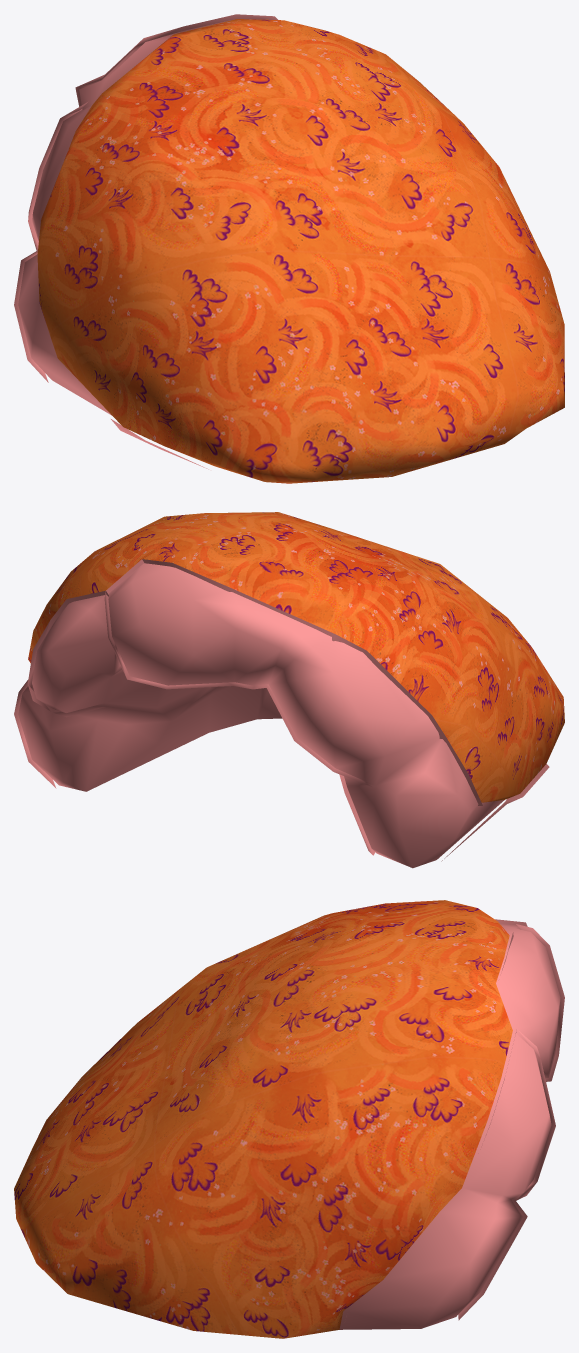
Rendered from entity426002.gltf.
3 renders of one model, top to bottom at view 1: azimuth 30°, elevation 25°; view 2: azimuth 150°, elevation 25°; view 3: azimuth 270°, elevation 25°, orthographic. The views are drawn at different scales.
Parts seen in each view (by area): view 1: node_mesh_shelter_01; view 2: node_mesh_shelter_01; view 3: node_mesh_shelter_01.
Part boxes in pixels (x1,y1,x2,y2): node_mesh_shelter_01: [14, 14, 564, 483]; node_mesh_shelter_01: [14, 512, 564, 868]; node_mesh_shelter_01: [14, 900, 564, 1338].
Size of the model in its own units: 267 by 163 by 268.
